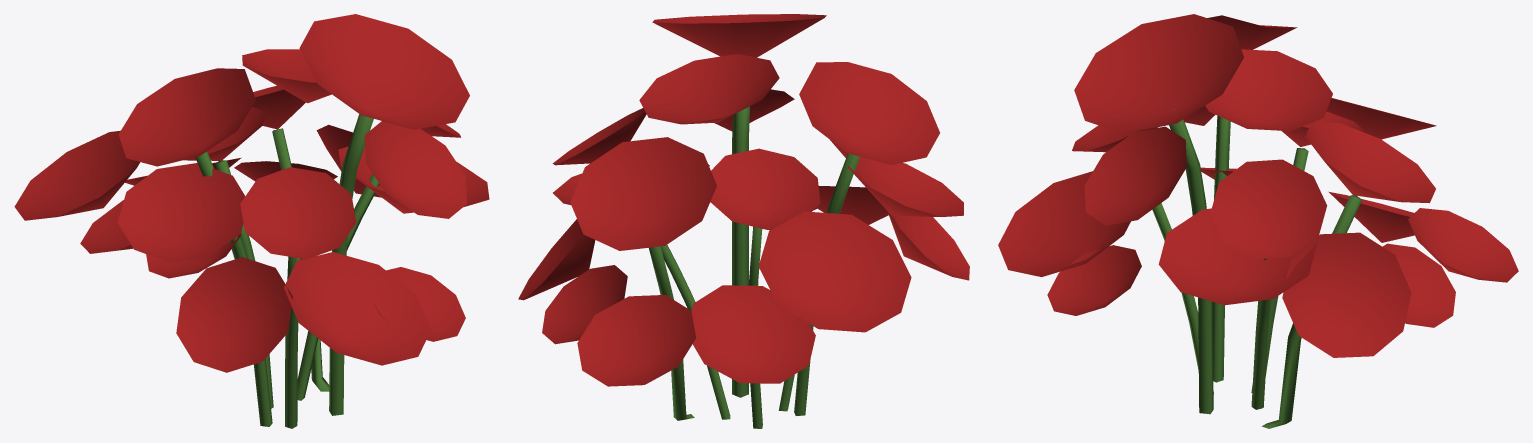
Rendered from SM_flowers_02.fbx.
The picture shows the model from 3 angles, left to right: view 1: azimuth 30°, elevation 25°; view 2: azimuth 150°, elevation 25°; view 3: azimuth 270°, elevation 25°; orthographic projection.
Visible parts, largest first — view 1: Object342707; view 2: Object342707; view 3: Object342707.
Part boxes in pixels (bbox=[...]): Object342707: bbox=[14, 14, 489, 428]; Object342707: bbox=[518, 14, 969, 428]; Object342707: bbox=[998, 14, 1518, 428].
Bounding box in the file's own units: 17.38 × 16.29 × 19.96.
